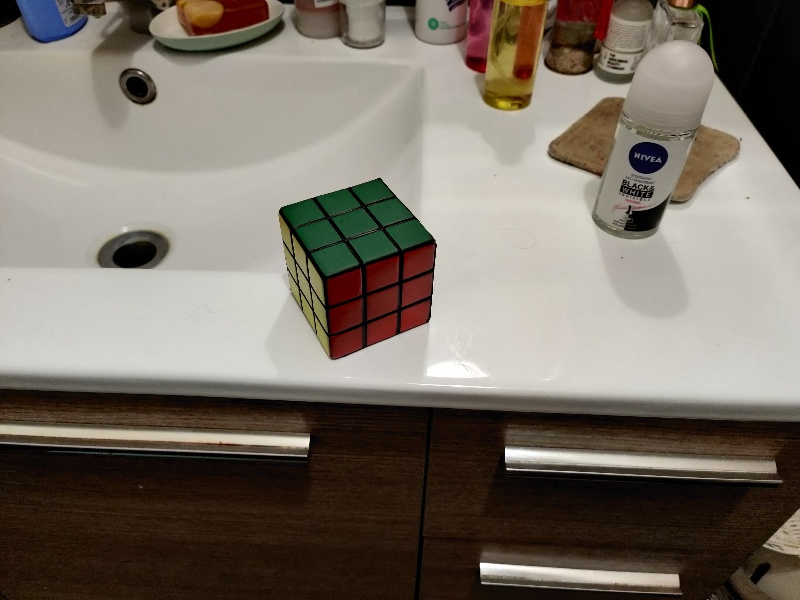rubik: (278, 177, 437, 362)
